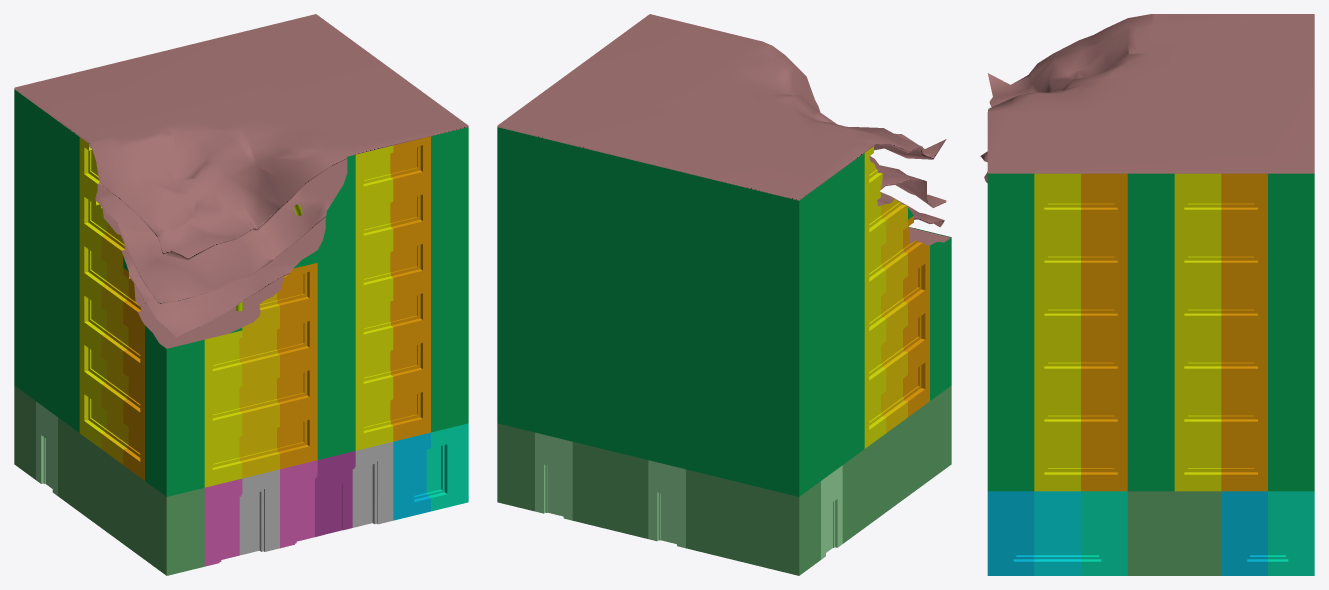
The model's file is Block_small.fbx.
3 renders of one model, left to right at view 1: azimuth 30°, elevation 25°; view 2: azimuth 150°, elevation 25°; view 3: azimuth 270°, elevation 25°, orthographic. The views are drawn at different scales.
Parts seen in each view (by area): view 1: Block; view 2: Block; view 3: Block.
Part boxes in pixels (x1,y1,x2,y2): Block: [14, 14, 468, 575]; Block: [497, 14, 951, 575]; Block: [980, 14, 1314, 575].
Bounding box in the file's own units: 16.63 × 19.08 × 14.31.
